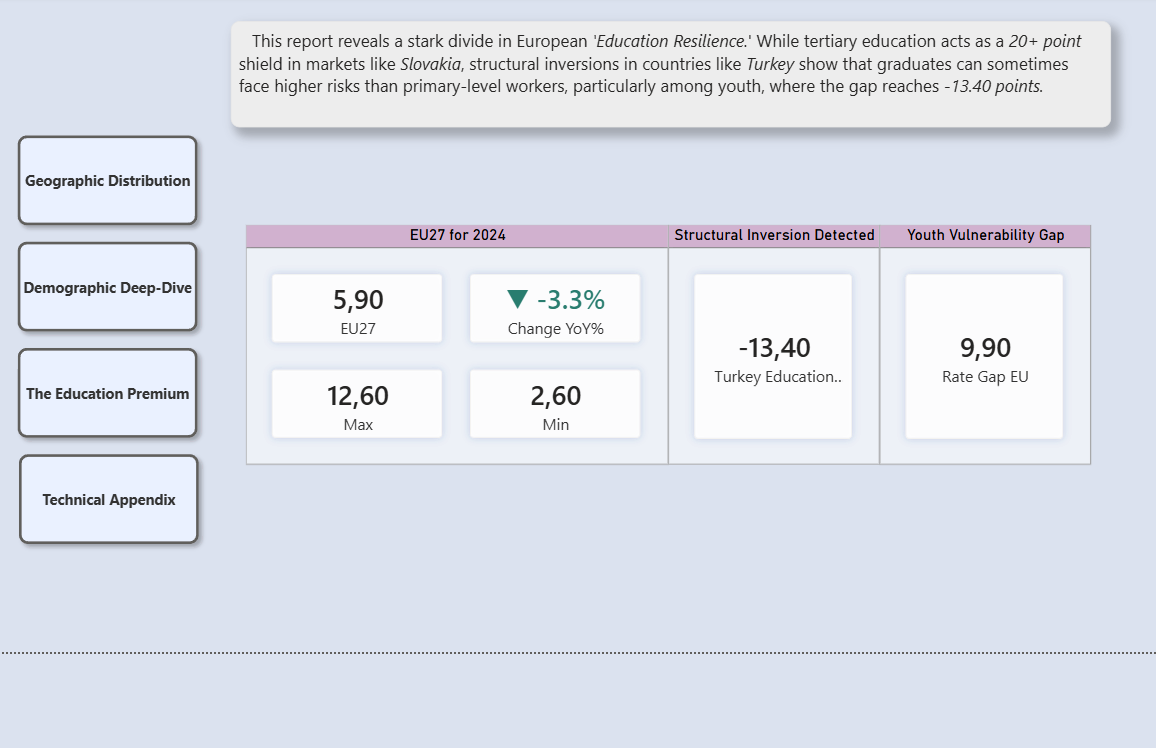

Layout of this report page (visuals, bound fields, positions):
{"tool":"powerbi","page":{"name":"Home page","canvas":[1280,720],"ordinal":0},"visuals":[{"type":"cardVisual","fields":{"Data":["_Measures.AVG_EU27","_Measures.YoY% Display","_Measures.MAX_Rate","_Measures.MIN_Rate"]},"box":[278,250.8,463.8,263.5],"z":0},{"type":"actionButton","title":"Geographic Distribution","box":[19.2,144.1,215.4,116.6],"z":1000,"group":"g1"},{"type":"cardVisual","title":"Youth Vulnerability Gap","fields":{"Data":["_Measures.Difference_rate_age"]},"box":[974.3,251.1,231.9,263.5],"z":1000},{"type":"cardVisual","title":"Structural Inversion Detected","fields":{"Data":["_Measures.Difference_Points-rate_Turkey_young"]},"box":[742.4,251.1,231.9,263.5],"z":2000},{"type":"actionButton","title":"Geographic Distribution","box":[19.2,260.7,215.4,116.6],"z":2000,"group":"g1"},{"type":"textbox","box":[262.1,27.4,966,116.6],"z":3000},{"type":"actionButton","title":"Geographic Distribution","box":[19.2,377.4,215.4,116.6],"z":3000,"group":"g1"},{"type":"group","id":"g1","title":"Group 1","box":[19.2,144.1,216.8,466.6],"z":4000},{"type":"actionButton","title":"Geographic Distribution","box":[20.6,494,215.4,116.6],"z":4000,"group":"g1"}]}

Visuals, with their boxes on the page's 1280x720 design canvas (x1, y1, x2, y2). These are canvas units, not pixel positions in the 1156x748 screenshot, which may show the page scaled, cropped or inside an application window:
cardVisual - _Measures.AVG_EU27 x _Measures.YoY% Display: [278,251,742,514]
"Geographic Distribution" actionButton: [19,144,235,261]
"Youth Vulnerability Gap" cardVisual: [974,251,1206,515]
"Structural Inversion Detected" cardVisual: [742,251,974,515]
"Geographic Distribution" actionButton: [19,261,235,377]
textbox: [262,27,1228,144]
"Geographic Distribution" actionButton: [19,377,235,494]
"Group 1" group: [19,144,236,611]
"Geographic Distribution" actionButton: [21,494,236,611]
